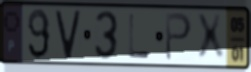3: (93, 9, 121, 62)
9: (26, 7, 52, 61)
L: (128, 13, 151, 61)
P: (164, 11, 194, 64)
V: (53, 8, 84, 61)
X: (194, 13, 227, 64)
